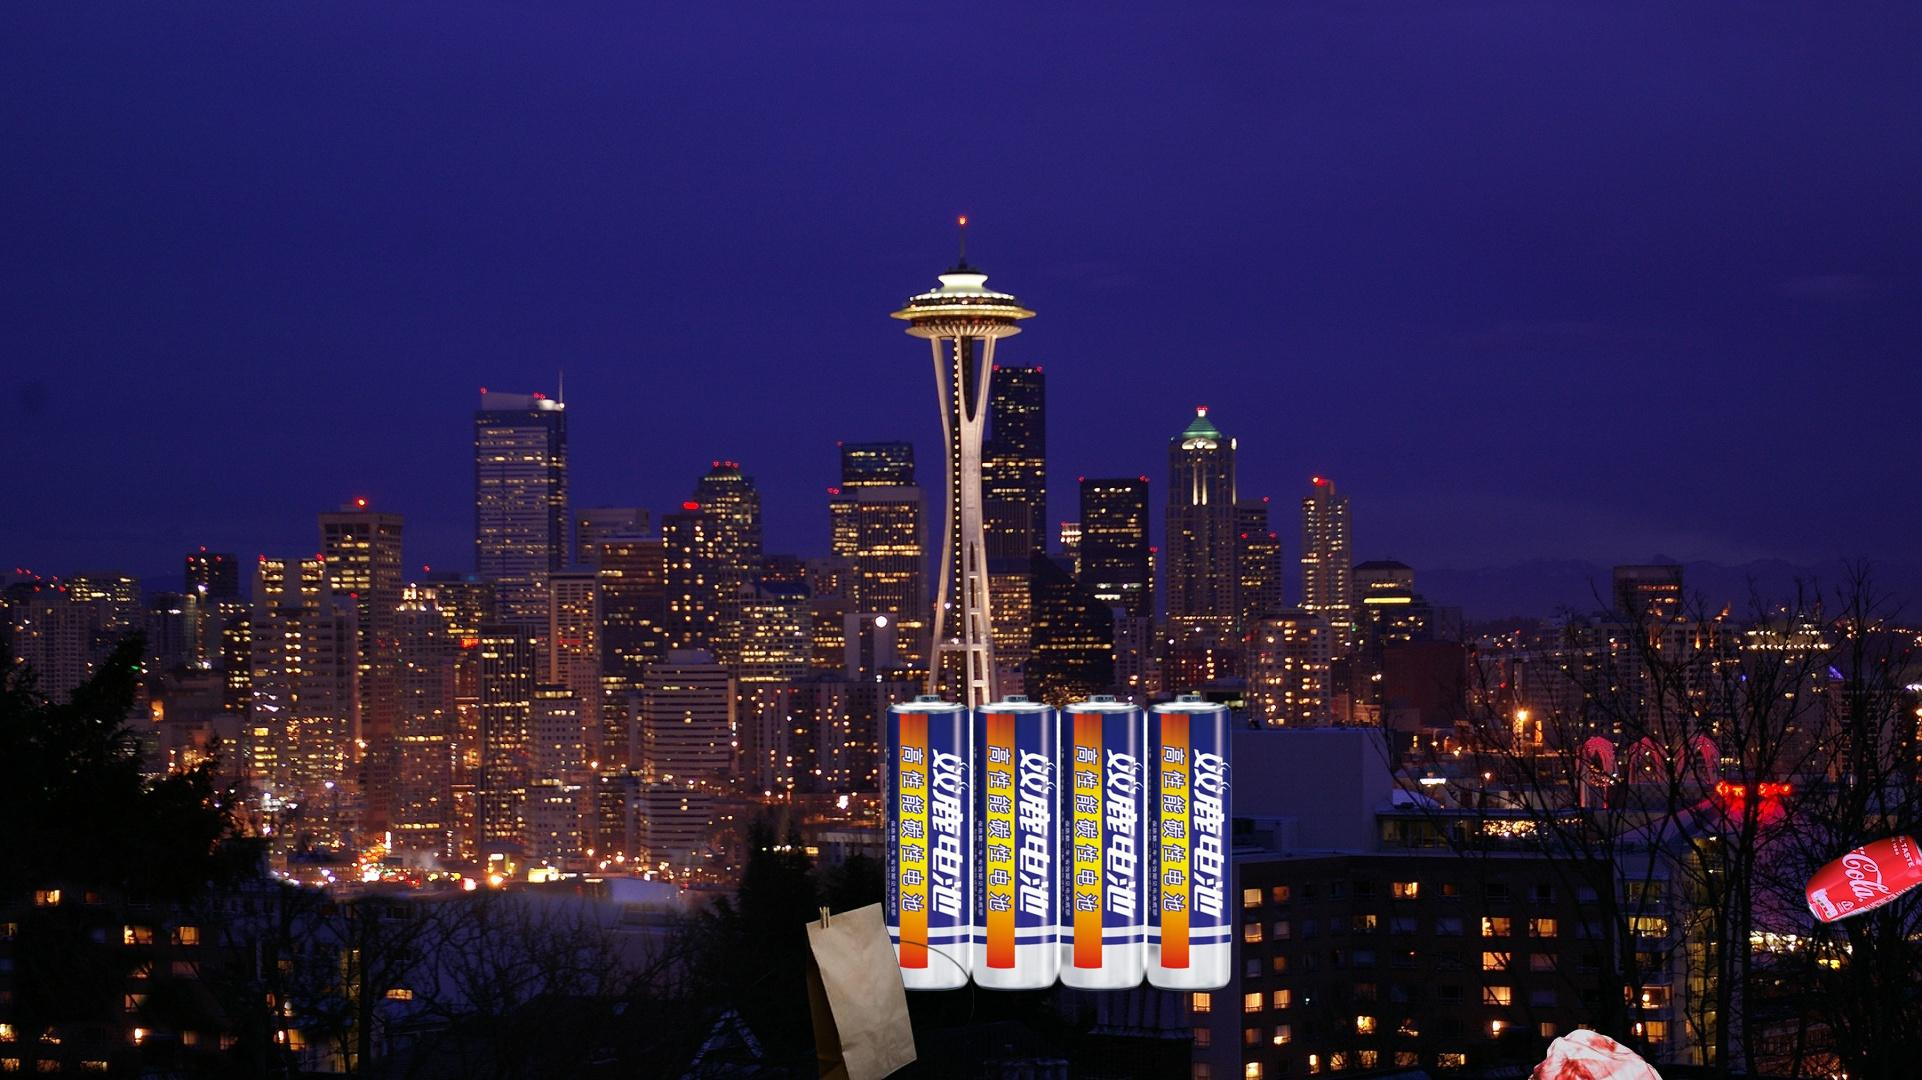battery: (882, 692, 1236, 996)
metal-cans: (1801, 828, 1922, 929)
paper-bag: (752, 900, 976, 1080)
plastic-bag: (1521, 1029, 1675, 1080)
